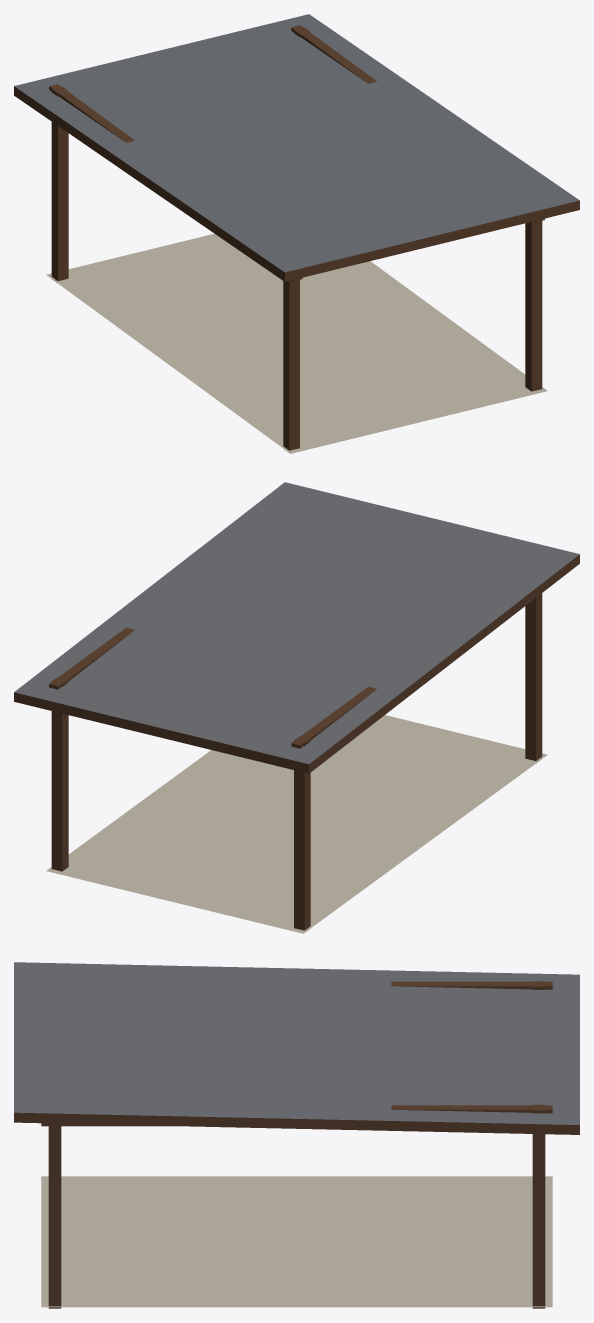
Rendered from carport.glb.
3 views of the same model, one above another, from view 1: azimuth 30°, elevation 25°; view 2: azimuth 150°, elevation 25°; view 3: azimuth 270°, elevation 25° (orthographic). The views are drawn at different scales.
Visible parts, largest first — view 1: carport; view 2: carport; view 3: carport.
Part boxes in pixels (left/top/right/bottom): carport: left=14, top=14, right=579, bottom=453; carport: left=14, top=482, right=579, bottom=933; carport: left=14, top=962, right=579, bottom=1308.
Bounding box in the file's own units: 3.9 × 2.5 × 6.2.
1 material, 1 textured.
